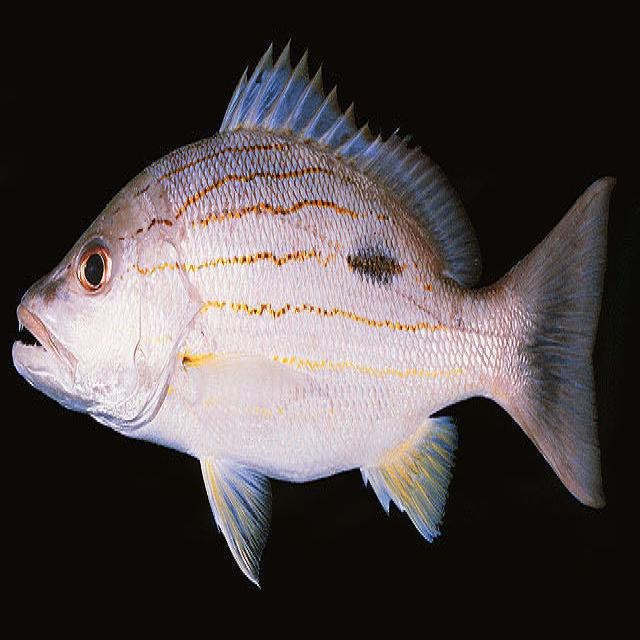ikan: (11, 34, 617, 590)
